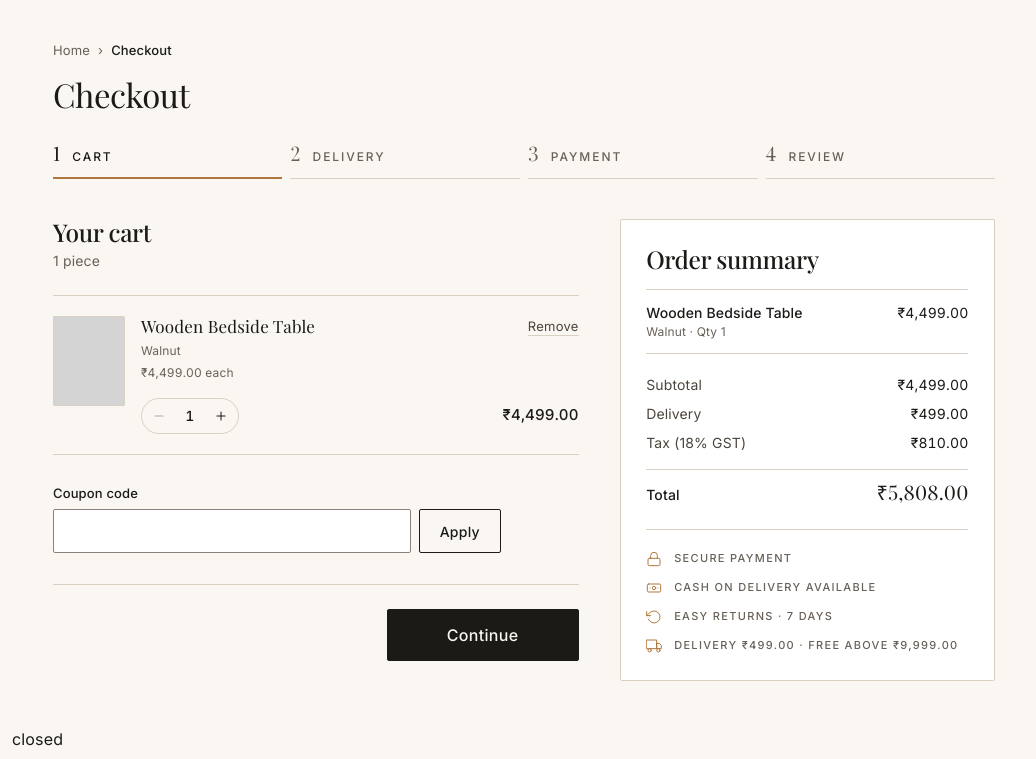
the coupon › a percentage coupon rounds to the nearest rupee (10% of ₹4,499 is ₹450)
The image size is (1036, 759).
Check: the list named "Our promises" is shown, box [646, 529, 968, 654]
Step 1. Type "FLAT10" into the field labelled "Coupon code" → (232, 532), box [53, 510, 411, 554]
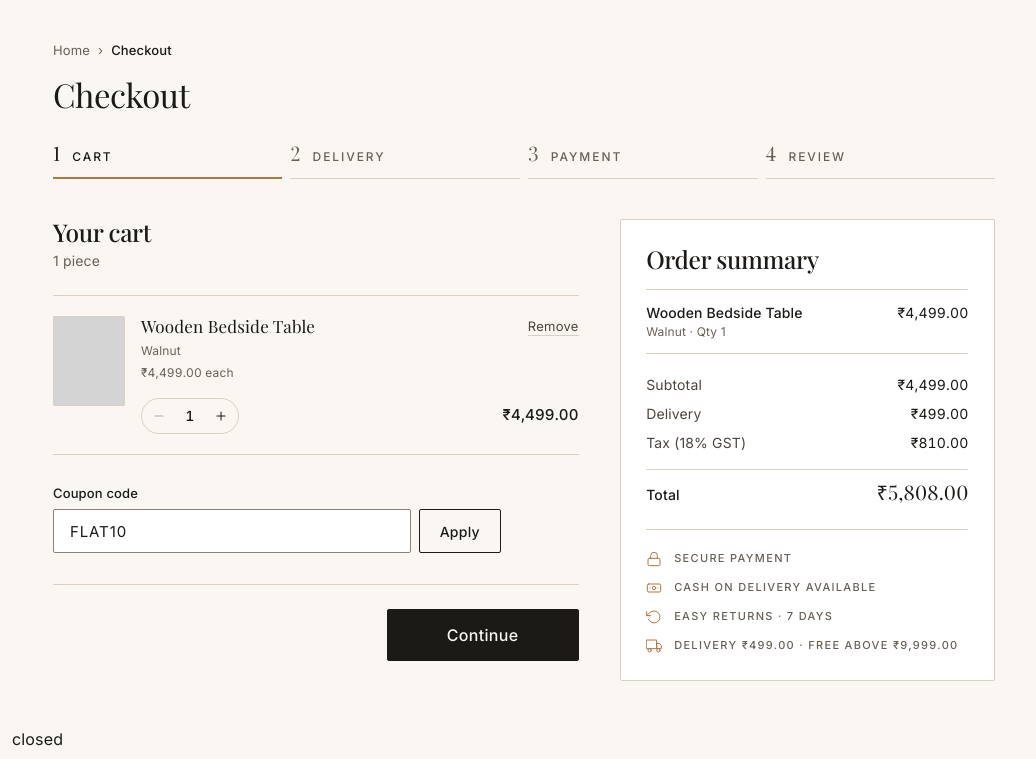
Step 2. Click the button "Apply" → (460, 532), box [419, 510, 501, 554]
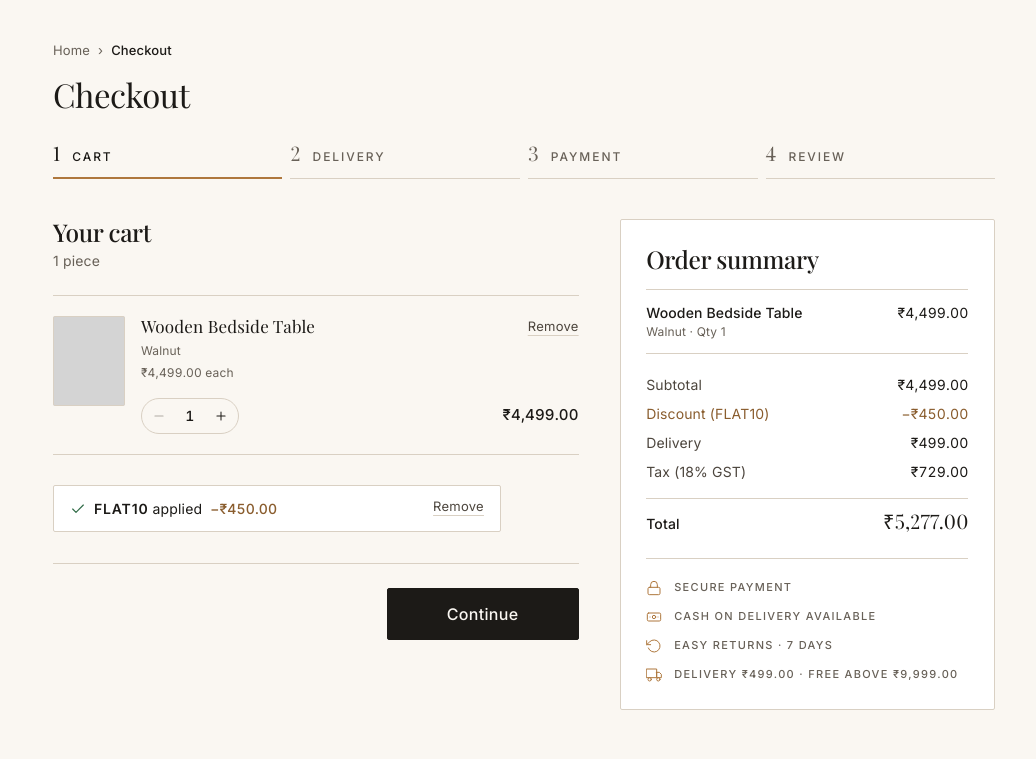
Check: the button named "Remove coupon FLAT10" is shown, box [433, 498, 484, 514]
